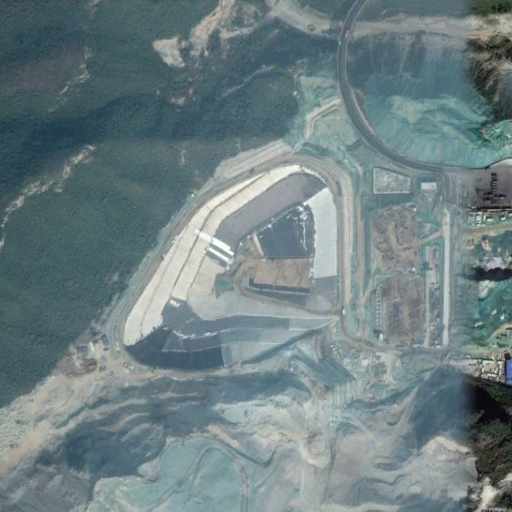lf: (122, 165, 345, 369)
